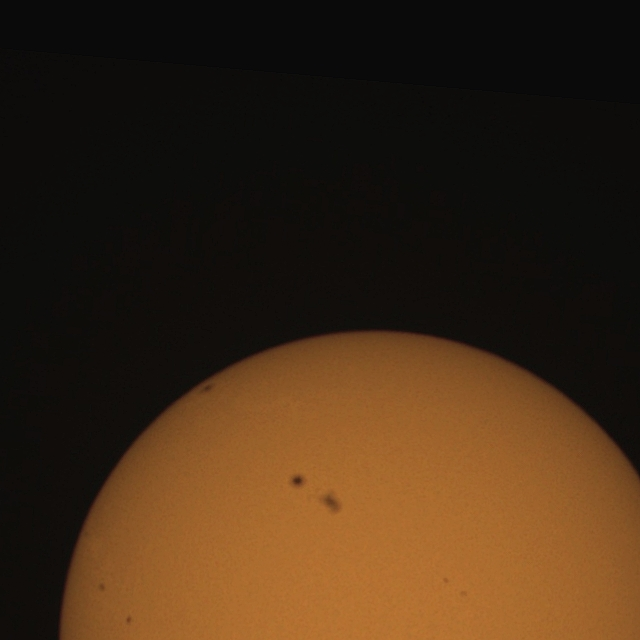sunspot: (289, 473, 307, 490), (200, 382, 215, 396), (98, 580, 107, 594), (125, 615, 134, 626), (442, 576, 450, 586)
